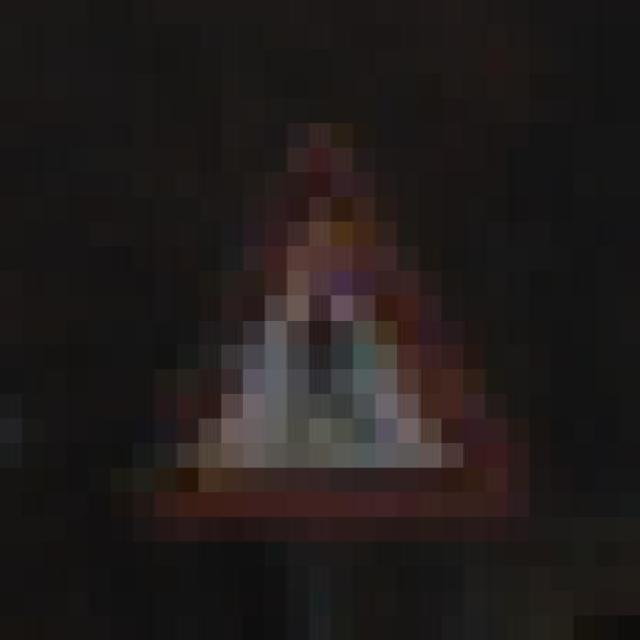Pedestrian Crossing: (88, 99, 530, 542)
